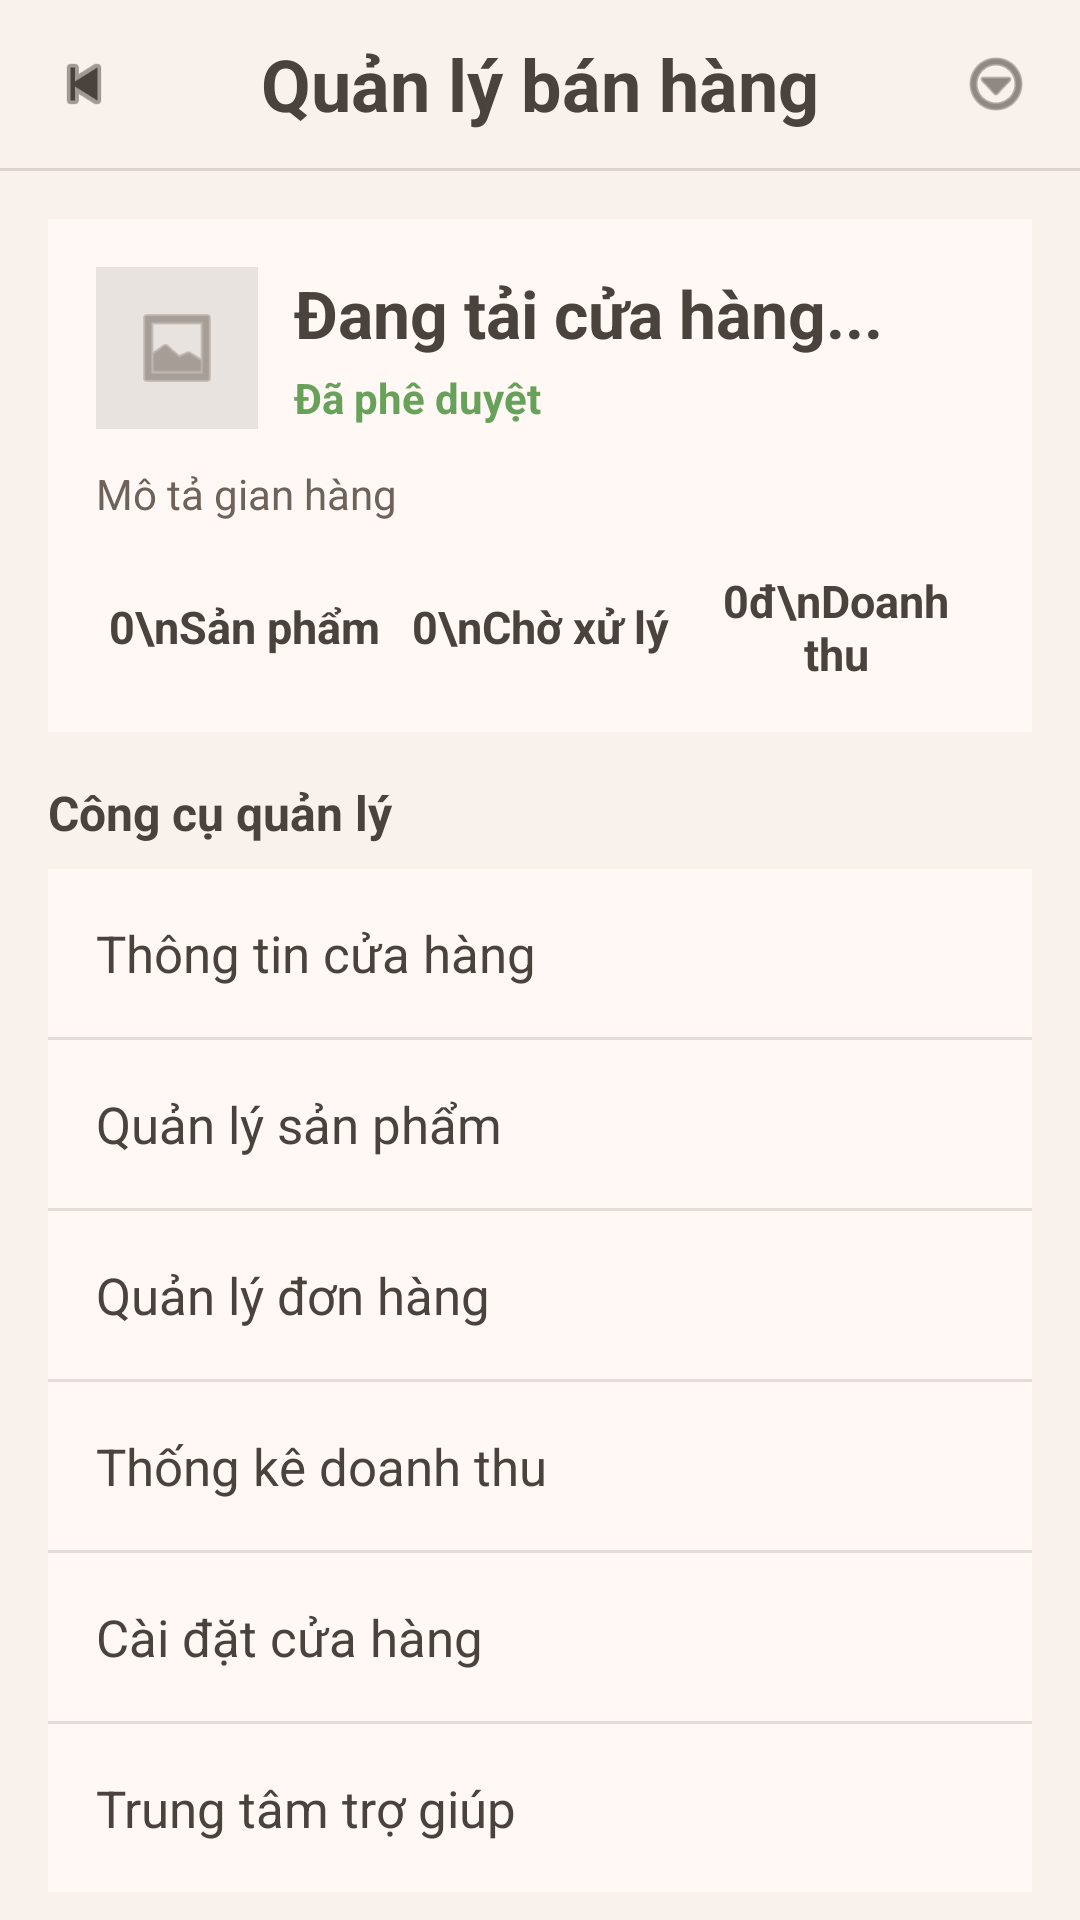

Icon bounding boxes for this 1080x1920 phone screenshot, format (x1, y1, x2, y2):
Menu: (969, 57, 1023, 111)
Quay lại: (67, 64, 101, 104)
